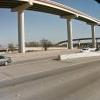Bridge: (16, 0, 100, 42)
